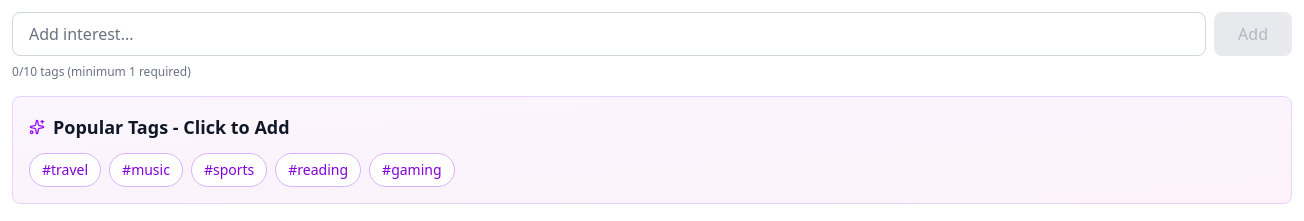
TagSelector Component › UI States › should enable add button when input has text
The image size is (1304, 221).
Type "travel" into the field with placeholder "Add interest..." at (609, 34), box [12,12,1206,56]
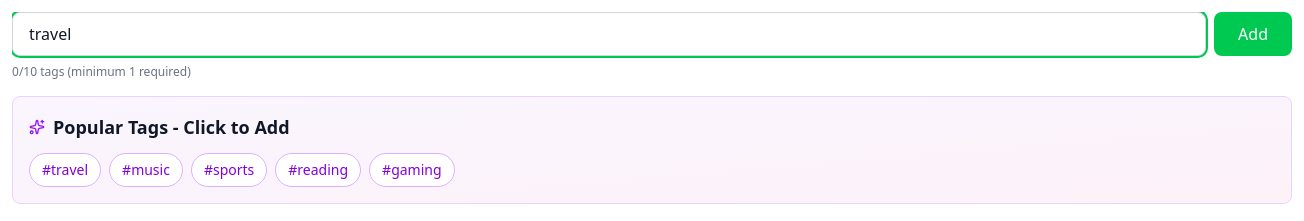
Check: the button "Add" is enabled, box [1214,12,1292,56]
